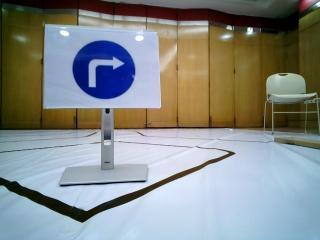right: (48, 26, 159, 105)
